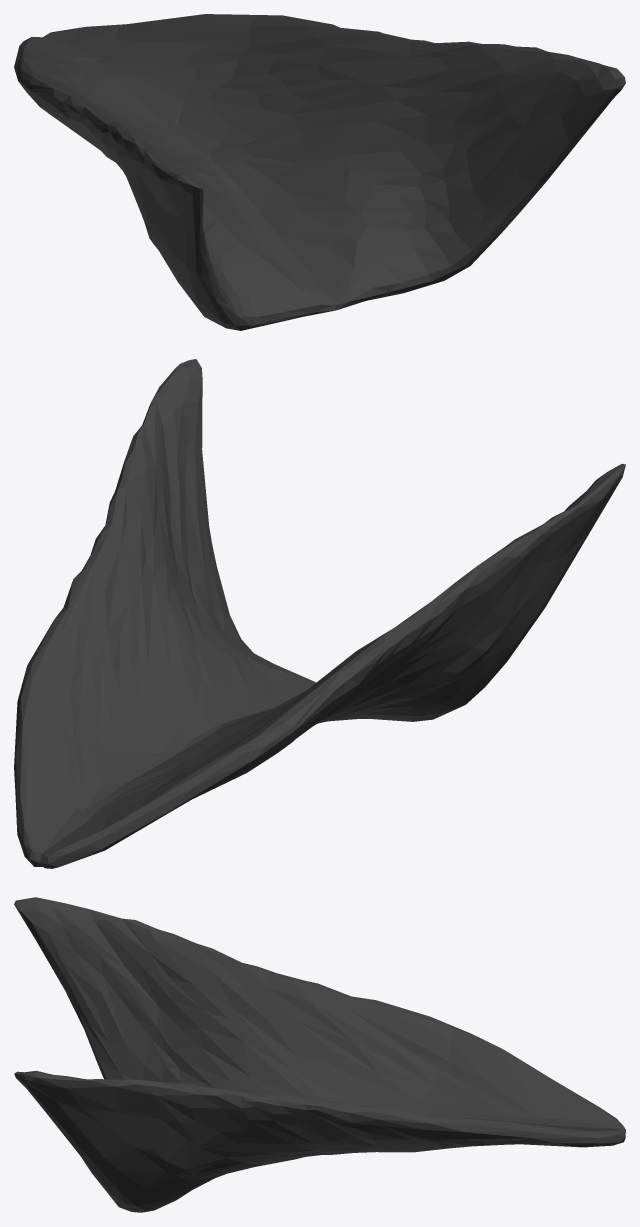
The model's file is m_trapezius_thoracis.glb.
3 renders of one model, top to bottom at view 1: azimuth 30°, elevation 25°; view 2: azimuth 150°, elevation 25°; view 3: azimuth 270°, elevation 25°, orthographic. The views are drawn at different scales.
Parts seen in each view (by area): view 1: m_trapezius_thoracis; view 2: m_trapezius_thoracis; view 3: m_trapezius_thoracis.
Boxes of the visible parts, x1,y1,x2,y2 form: m_trapezius_thoracis: (14, 14, 625, 330); m_trapezius_thoracis: (14, 359, 625, 868); m_trapezius_thoracis: (14, 897, 625, 1212).
Size of the model in its own units: 0.00352 by 0.00181 by 0.00511.
Materials: 1 (1 with a texture image).
